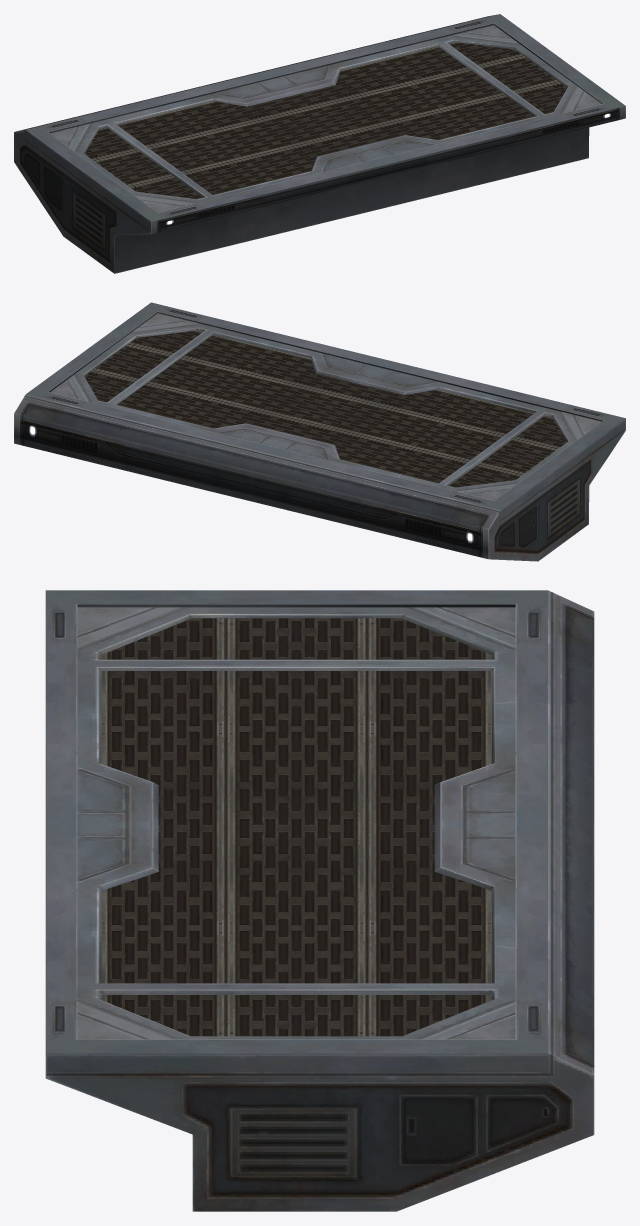
Rendered from all_item_imp_scaffold_platform_a.glb.
3 renders of one model, top to bottom at view 1: azimuth 30°, elevation 25°; view 2: azimuth 150°, elevation 25°; view 3: azimuth 270°, elevation 25°, orthographic. The views are drawn at different scales.
Visible parts, largest first — view 1: all_item_imp_scaffold_platform_a; view 2: all_item_imp_scaffold_platform_a; view 3: all_item_imp_scaffold_platform_a.
Boxes of the visible parts, bbox=[...] form: all_item_imp_scaffold_platform_a: bbox=[14, 14, 625, 273]; all_item_imp_scaffold_platform_a: bbox=[14, 302, 625, 561]; all_item_imp_scaffold_platform_a: bbox=[45, 590, 594, 1211].
Size of the model in its own units: 1.6 by 0.2542 by 0.8.
2 materials, 2 textured.
